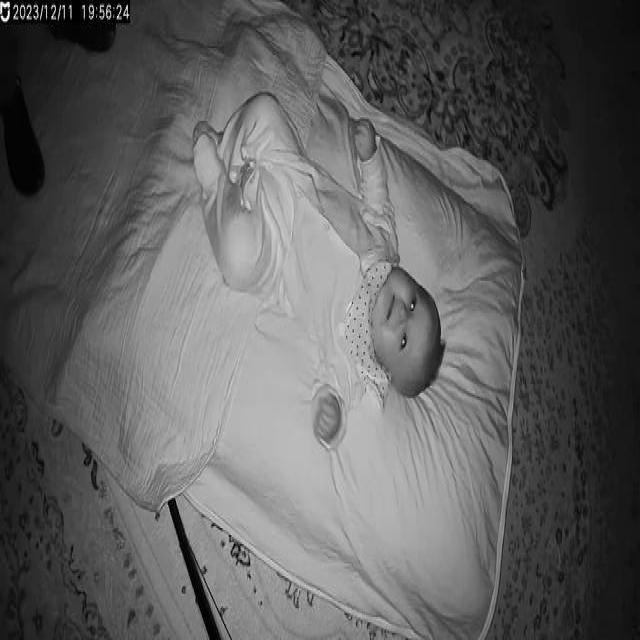baby: (190, 90, 447, 448)
